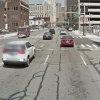Car: (55, 32, 80, 56)
